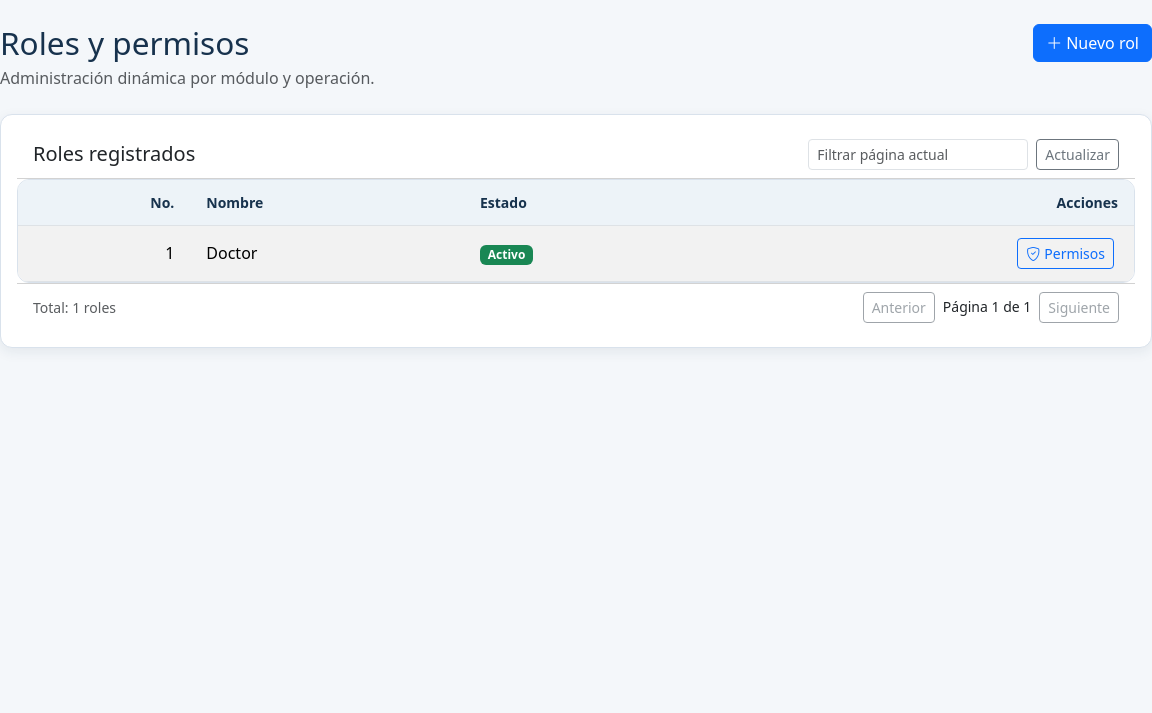
Test: RolesComponent › muestra una matriz vacía con el catálogo autorizado al abrir Nuevo rol
Click the button "Nuevo rol". click: (1093, 43)
box: [1033, 24, 1151, 62]
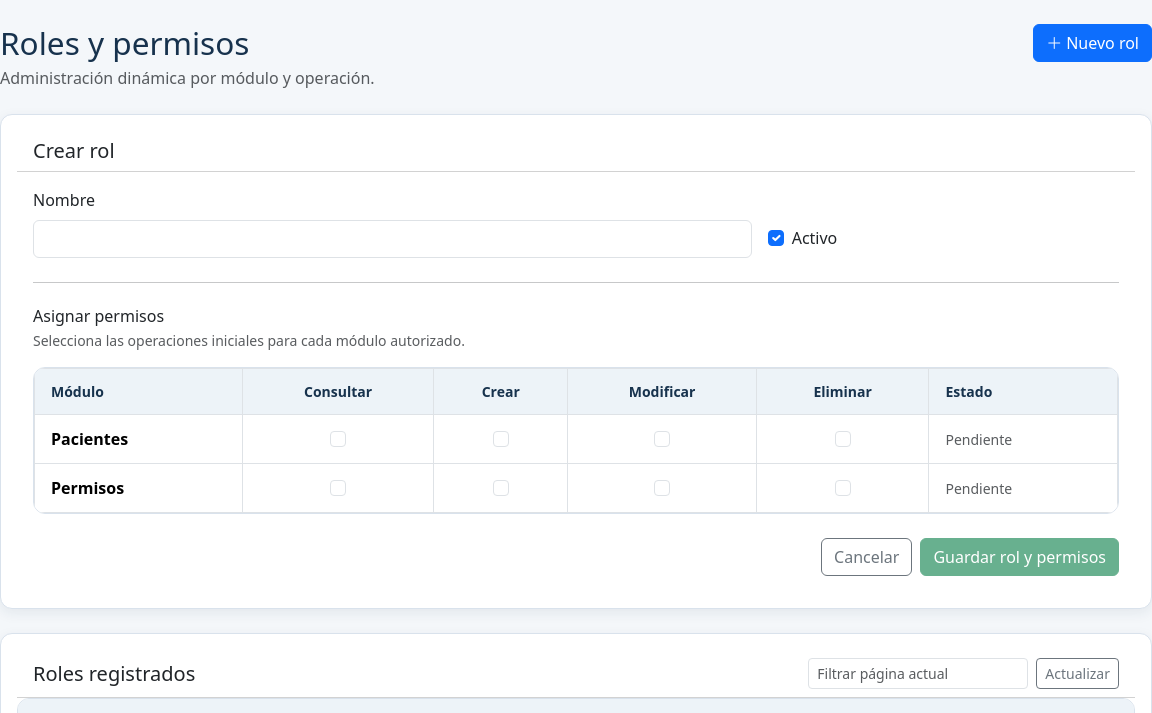
Check: the text "Asignar permisos" is shown, box [33, 305, 164, 327]
Check: the text "Pacientes" is shown, box [34, 415, 243, 464]
Check: the text "Guardar rol y permisos" is shown, box [920, 538, 1119, 576]
